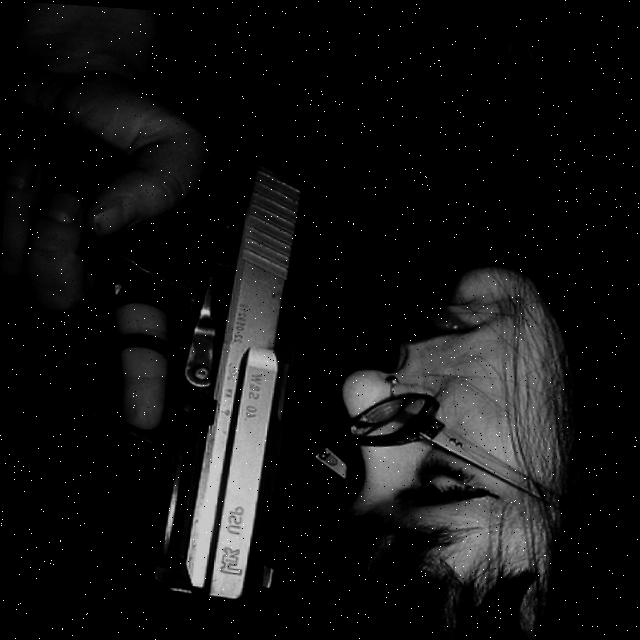pistol: (56, 125, 315, 614)
